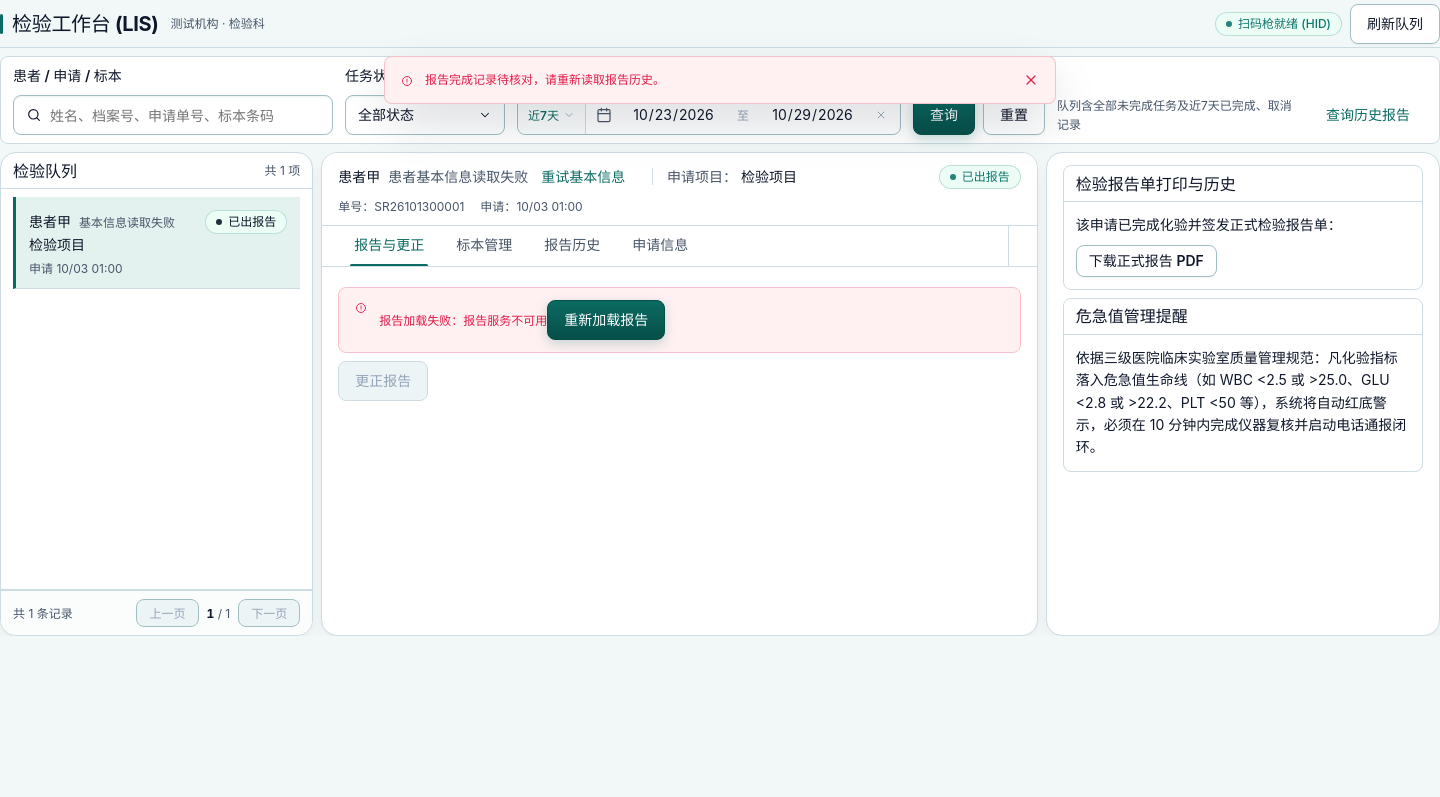
diagnostic source facts › does not fabricate receipt or synchronization of a report: failed
This screenshot has width=1440, height=797.
expect the text "报告加载失败：报告服务不可用 重新加载报告" is shown: met, box 379,300 -> 665,340
expect the text "检验指标" is not shown: met
What coordinates should you click on to do the following:
click the button "重新加载报告"
I would click on:
 (606, 320)
Its box is 547,300 -> 665,340.
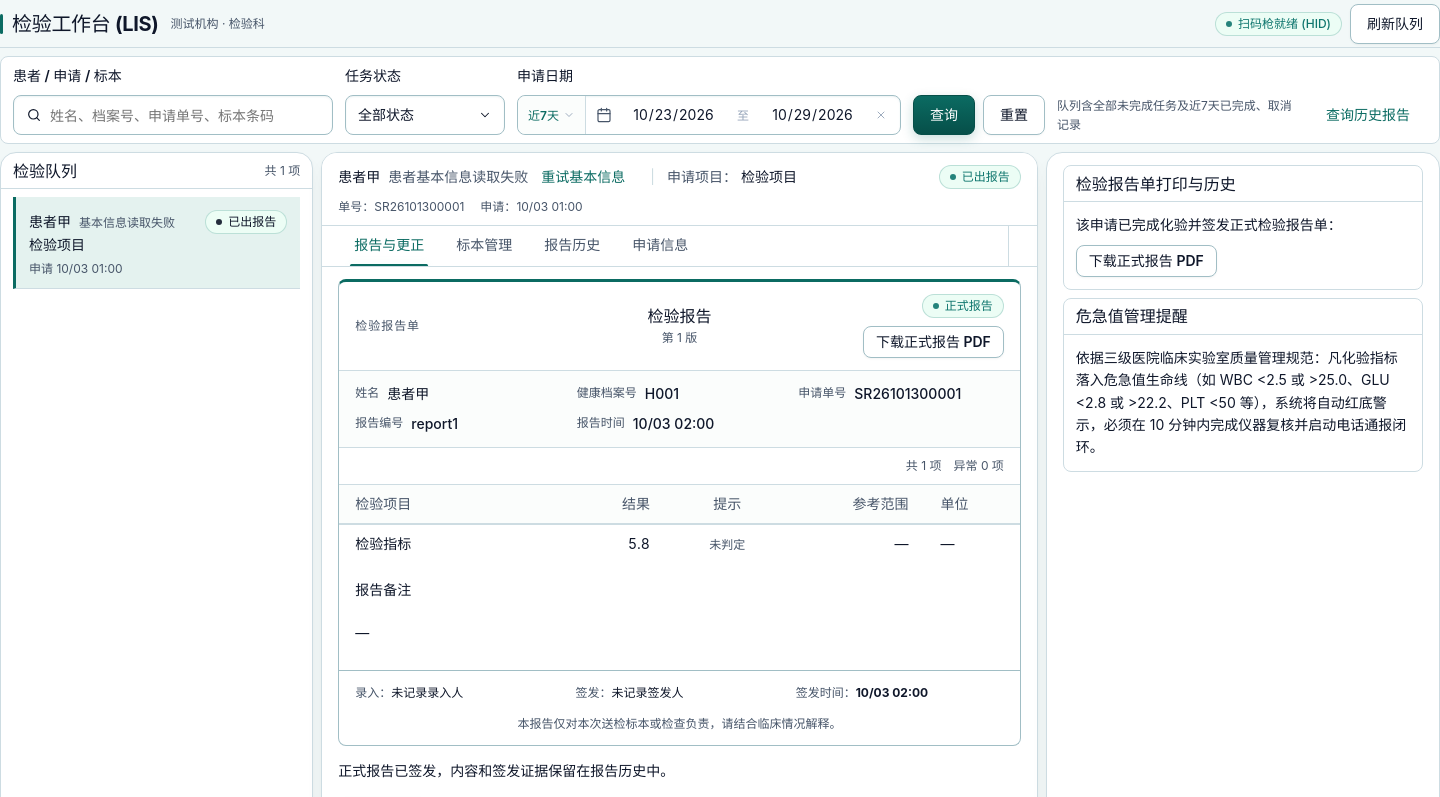
expect the text "检验指标" is shown: met, box 339,524 -> 544,563
